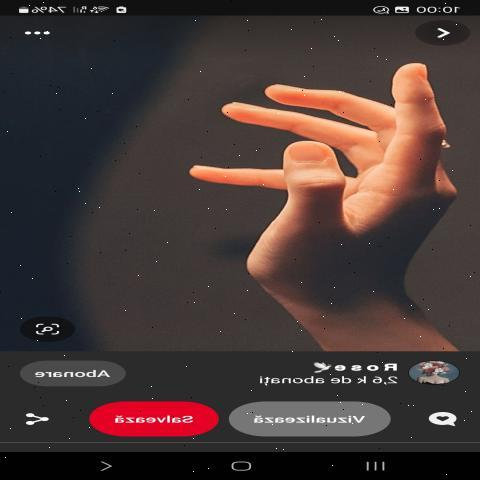Hands: (163, 38, 464, 326)
